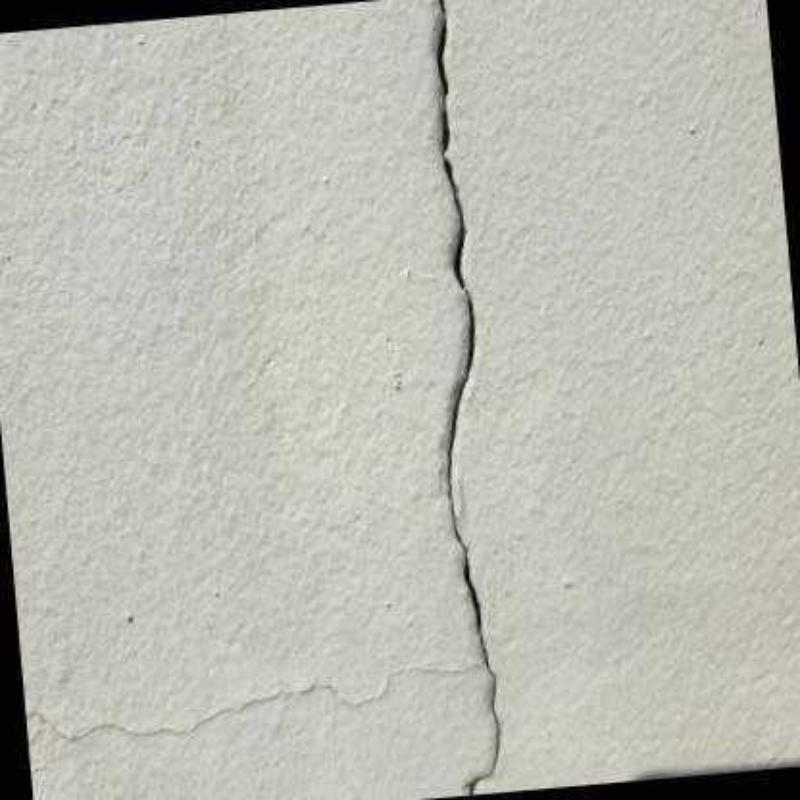pothole: (436, 0, 501, 796), (25, 662, 483, 740)
